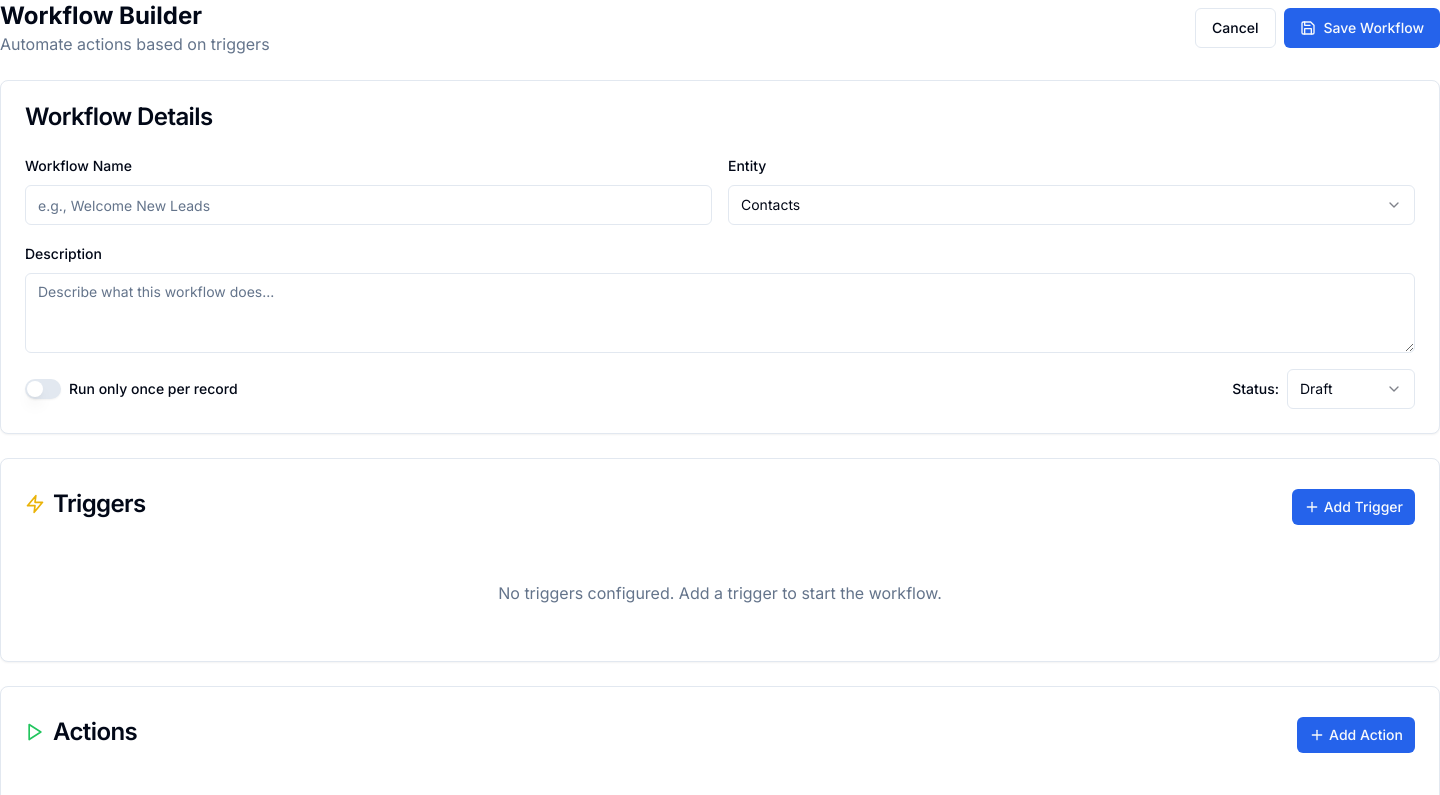
WorkflowBuilder › actions › should add multiple actions with correct positions
This screenshot has width=1440, height=795.
Step 1. Click the button "Add Action" → [1356, 735], box x1=1297 y1=717 x2=1415 y2=753
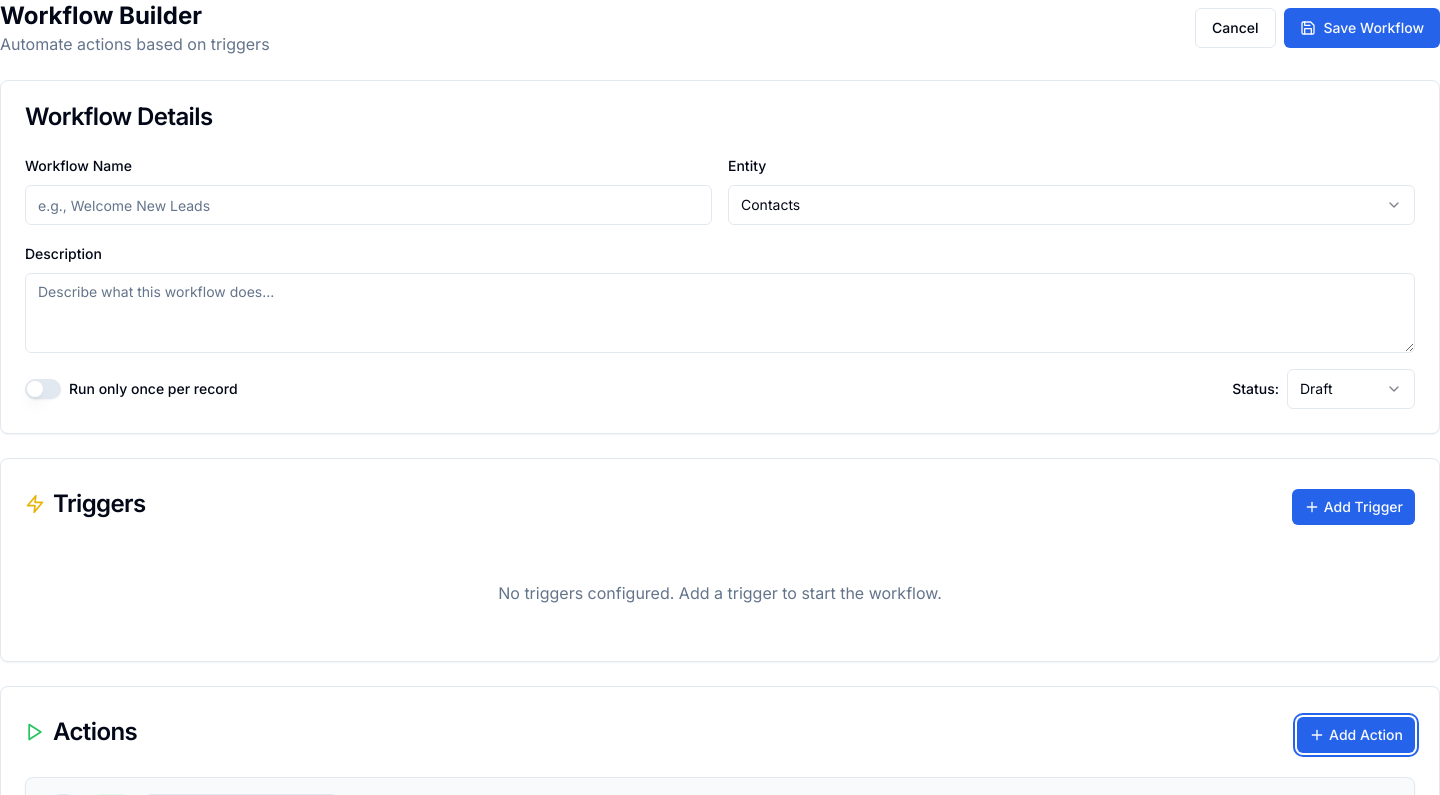
Step 2. Click the button "Add Action" → [1356, 735], box x1=1297 y1=717 x2=1415 y2=753
(page scrolled)
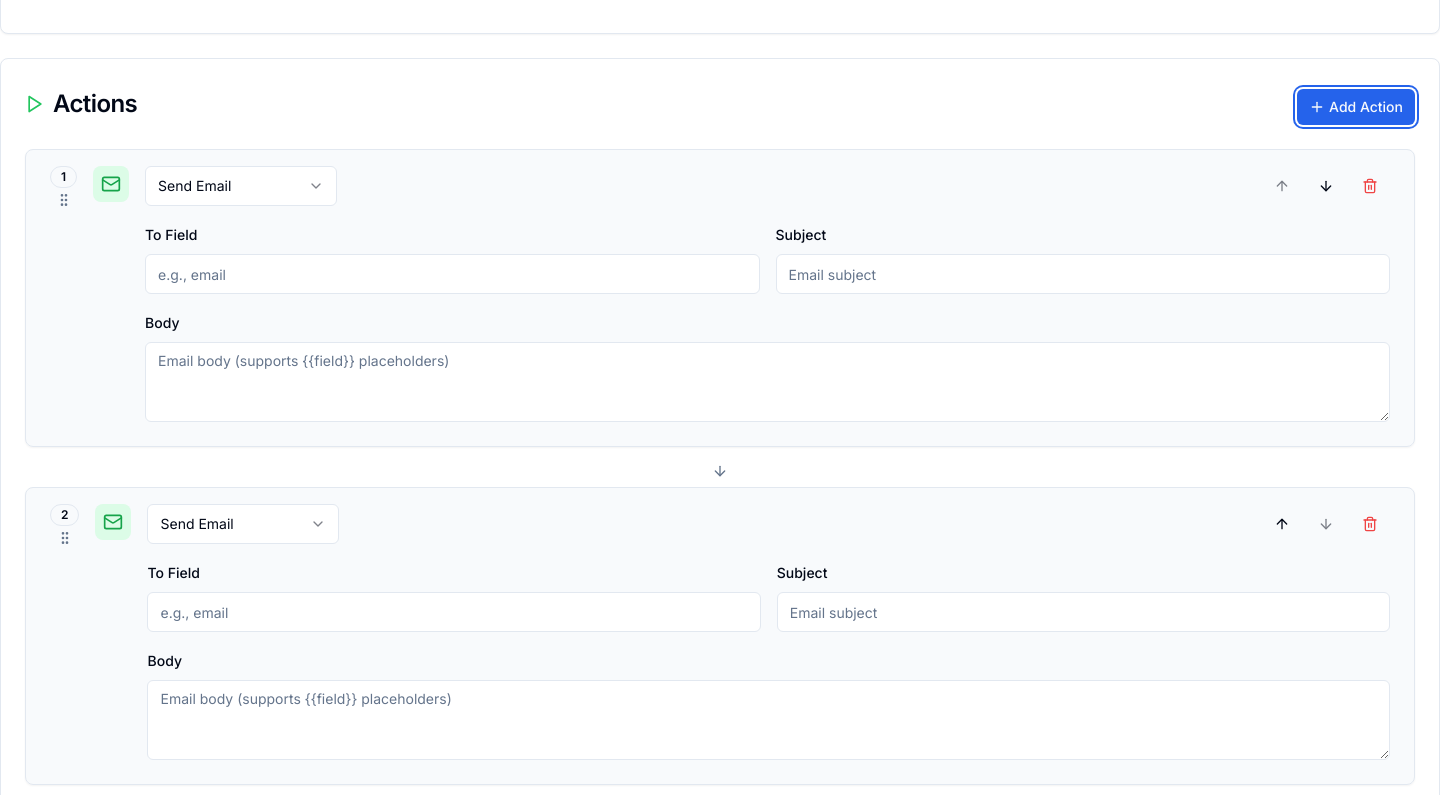
Now the text "1" is shown, box x1=50 y1=166 x2=77 y2=188
Now the text "2" is shown, box x1=50 y1=504 x2=80 y2=526
